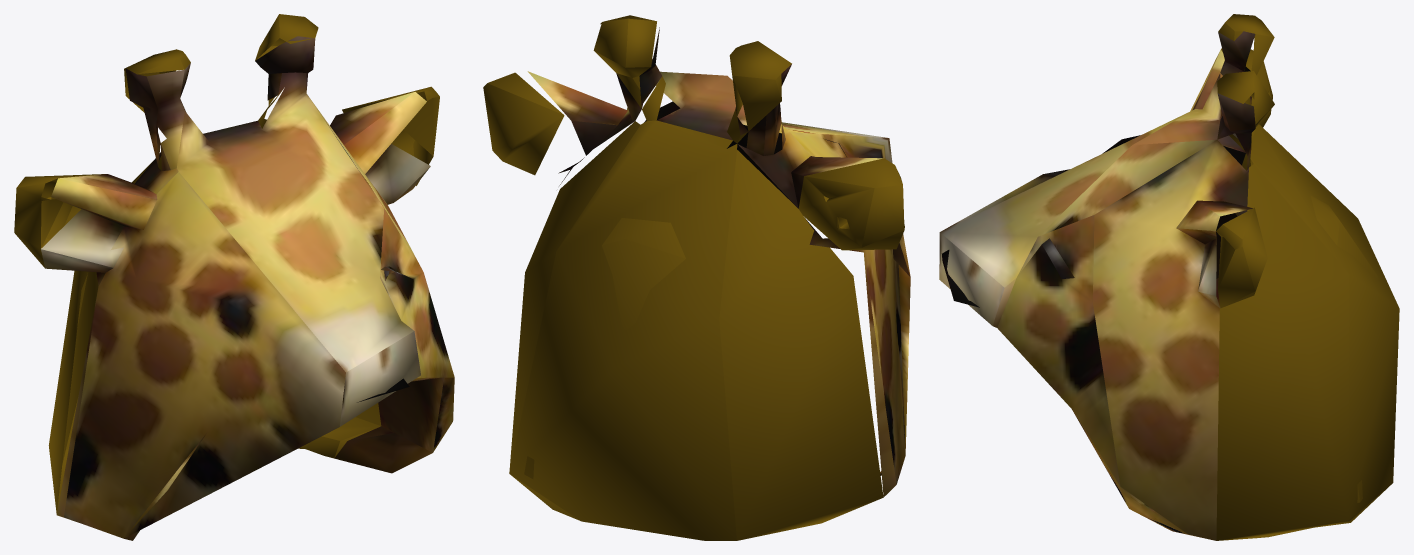
Rendered from giraffe.glb.
The picture shows the model from 3 angles, left to right: view 1: azimuth 30°, elevation 25°; view 2: azimuth 150°, elevation 25°; view 3: azimuth 270°, elevation 25°; orthographic projection. The views are drawn at different scales.
Parts seen in each view (by area): view 1: geometry_0; view 2: geometry_0; view 3: geometry_0.
Part boxes in pixels (x1,y1,x2,y2): geometry_0: (14,14,454,540); geometry_0: (483,15,910,540); geometry_0: (939,14,1399,540).
Bounding box in the file's own units: 0.5121 × 0.5371 × 0.5047.
2 materials, 1 textured.
